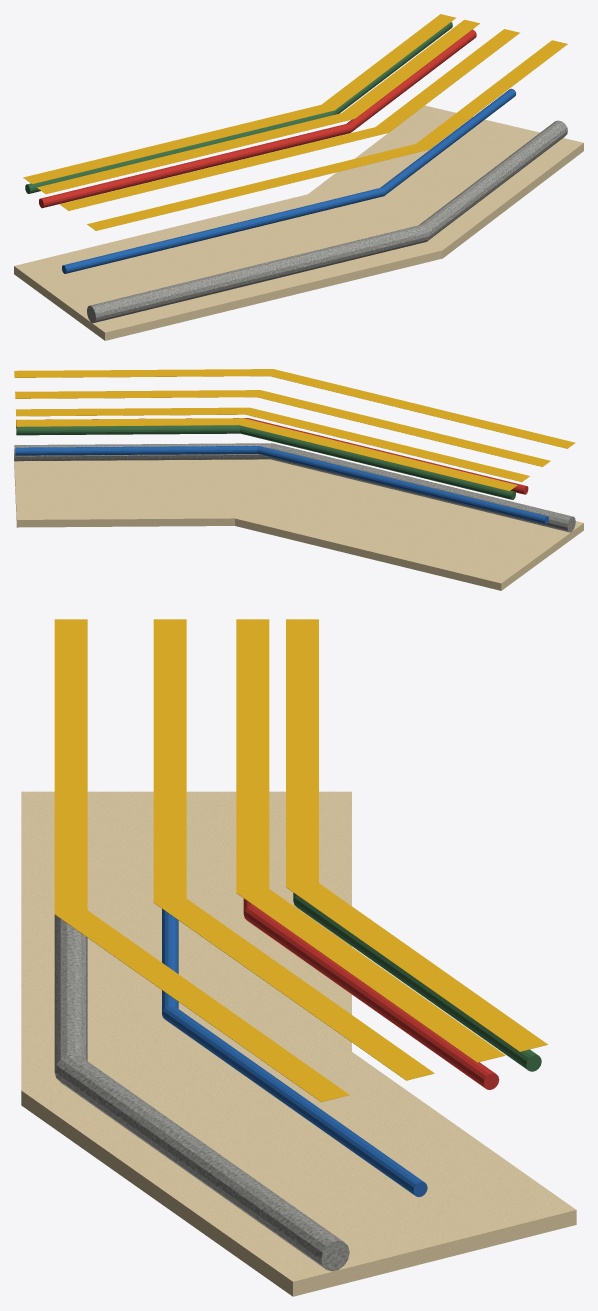
3 views of the same model, one above another, from view 1: azimuth 30°, elevation 25°; view 2: azimuth 150°, elevation 25°; view 3: azimuth 270°, elevation 25° (orthographic). The views are drawn at different scales.
Visible parts, largest first — view 1: utility.service_corridor (×6); view 2: utility.service_corridor (×6); view 3: utility.service_corridor (×6).
Boxes of the visible parts, x1,y1,x2,y2 form: utility.service_corridor (×6): (14,14,583,340); utility.service_corridor (×6): (14,369,583,590); utility.service_corridor (×6): (21,619,576,1296).
Bounding box in the file's own units: 7.01 × 3.36 × 1.25.
6 materials, 2 textured.
